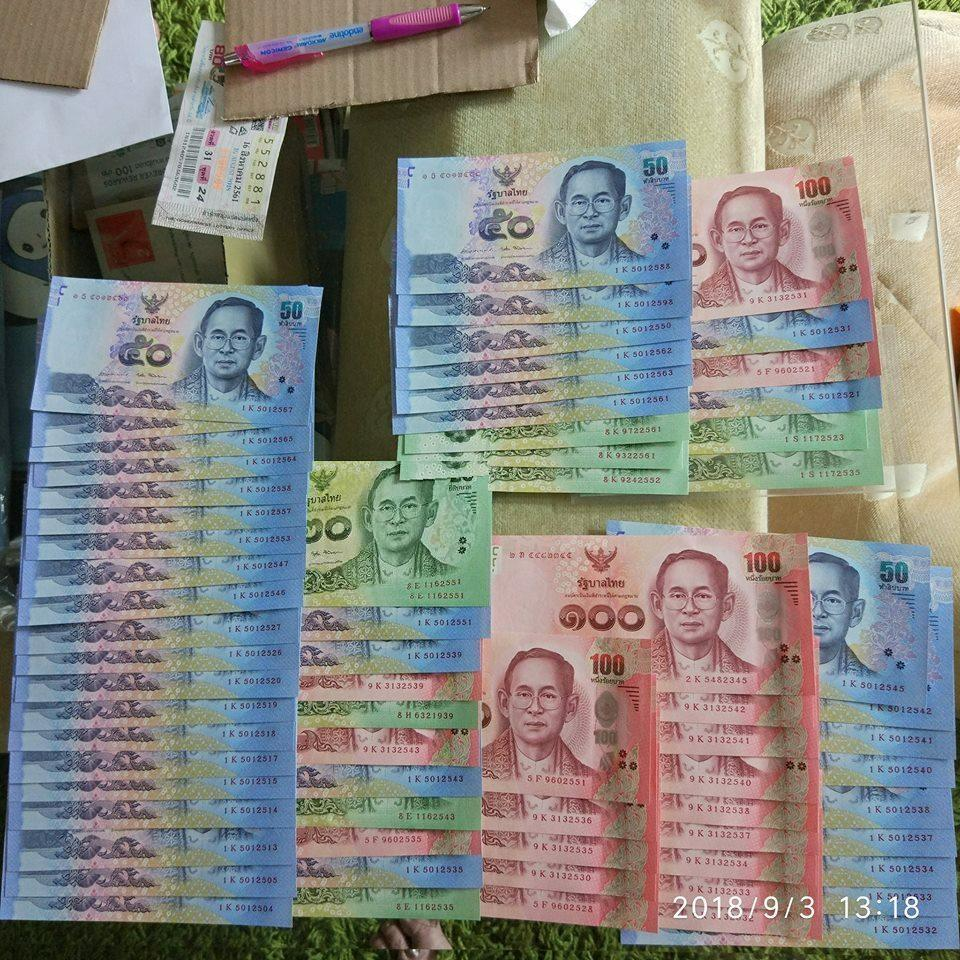20BahtTai: (307, 462, 490, 605)
